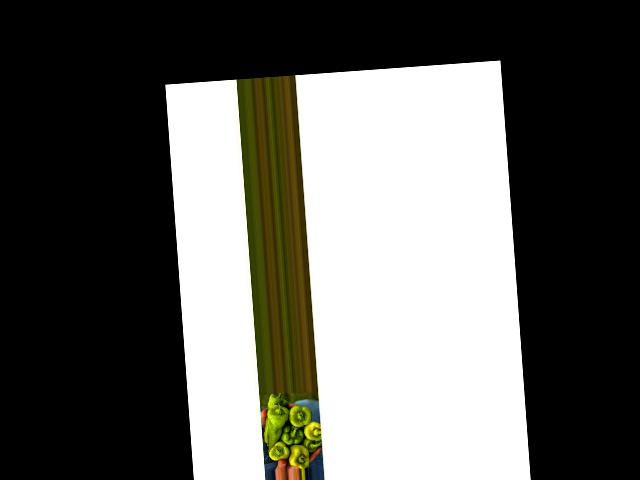bell_pepper: (289, 442, 312, 468)
